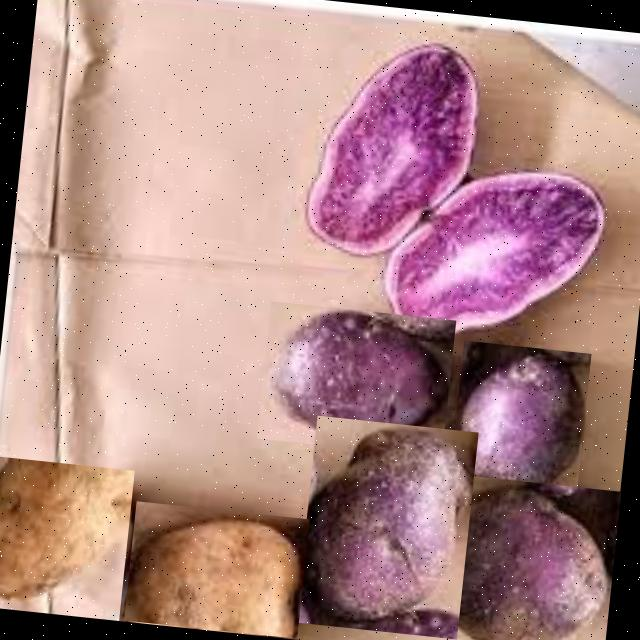Damaged potato: (374, 156, 606, 365), (294, 414, 478, 638), (256, 299, 454, 456), (444, 473, 620, 640), (122, 500, 308, 638), (447, 339, 590, 504)
Potato: (0, 454, 133, 620)
